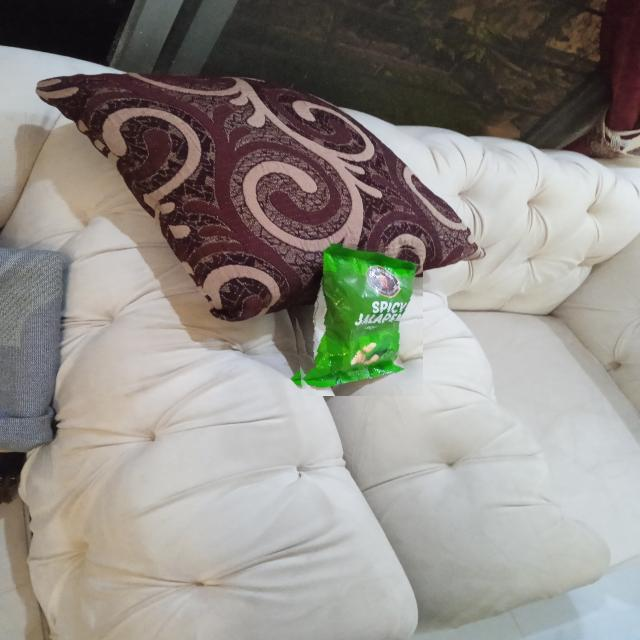Plastic: (289, 244, 423, 396)
